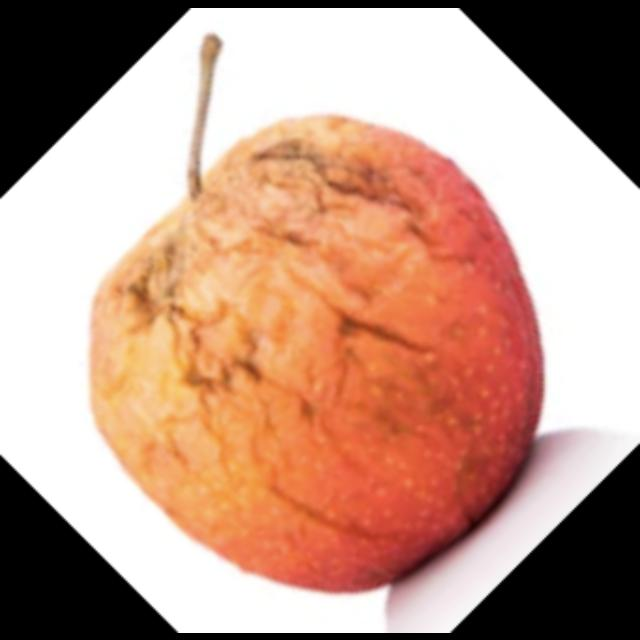Apel Tidak Segar: (85, 118, 552, 587)
